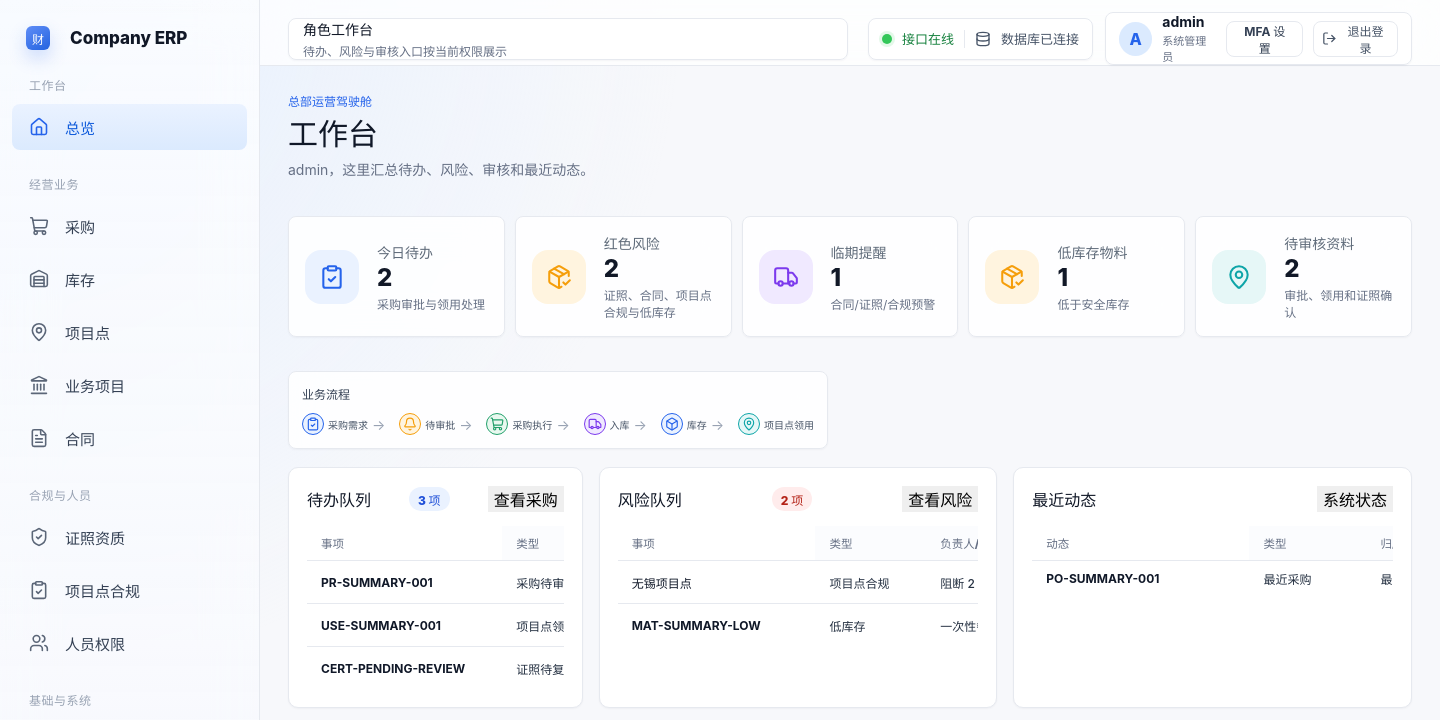
Scenario: Company ERP app shell › routes dashboard certificate review rows into the certificate review tab
This screenshot has width=1440, height=720.
Click the text "CERT-PENDING-REVIEW" at (405, 668), box x1=307 y1=647 x2=502 y2=690
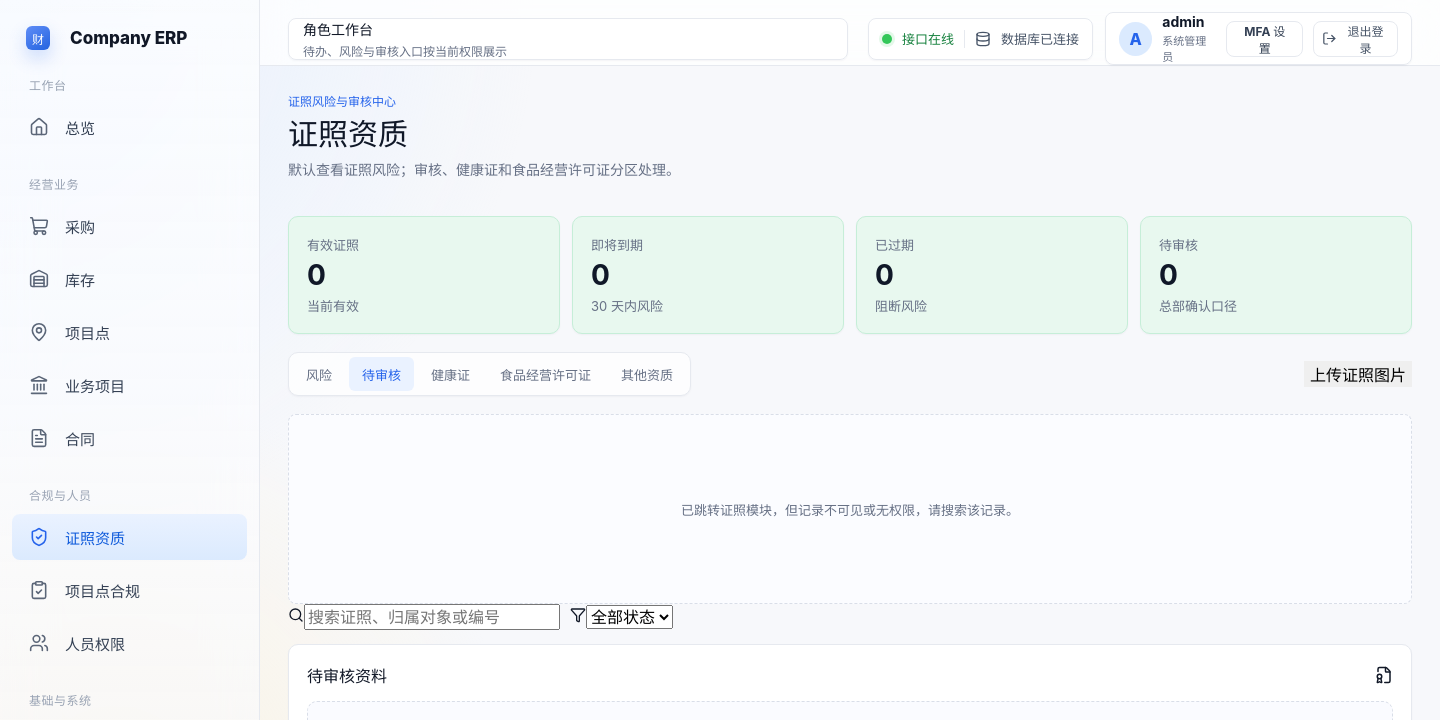
Result: the heading "证照资质" is shown at x1=288 y1=116 x2=408 y2=152
Result: the tab "待审核" is shown at x1=349 y1=358 x2=414 y2=392
